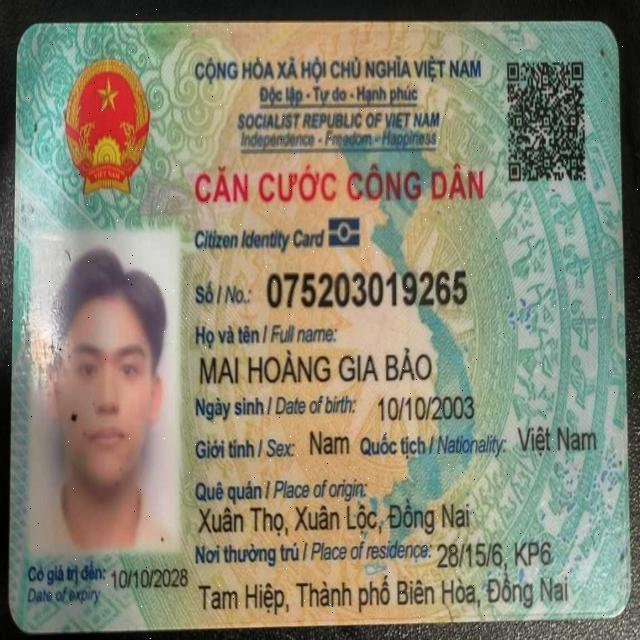current_place: (197, 570, 569, 615), (432, 534, 559, 571)
dob: (371, 387, 482, 425)
expire_date: (106, 561, 192, 598)
gender: (303, 426, 348, 461)
id: (262, 262, 470, 311)
name: (198, 344, 432, 389)
nationality: (509, 421, 602, 458)
origin_place: (194, 495, 472, 536)
